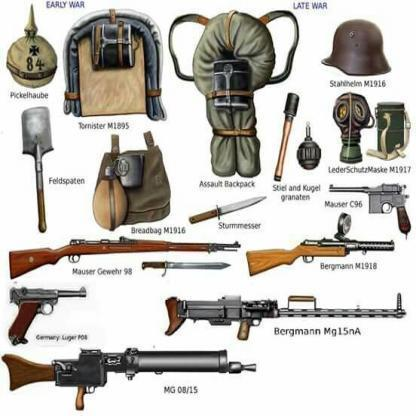Grenade: (274, 91, 301, 183), (297, 121, 323, 172)
Gun: (0, 343, 259, 412), (163, 292, 407, 341), (7, 234, 242, 281), (244, 212, 396, 280)
Knife: (188, 195, 267, 226), (141, 258, 234, 276)
Pistol: (5, 284, 93, 348), (325, 180, 412, 241)
